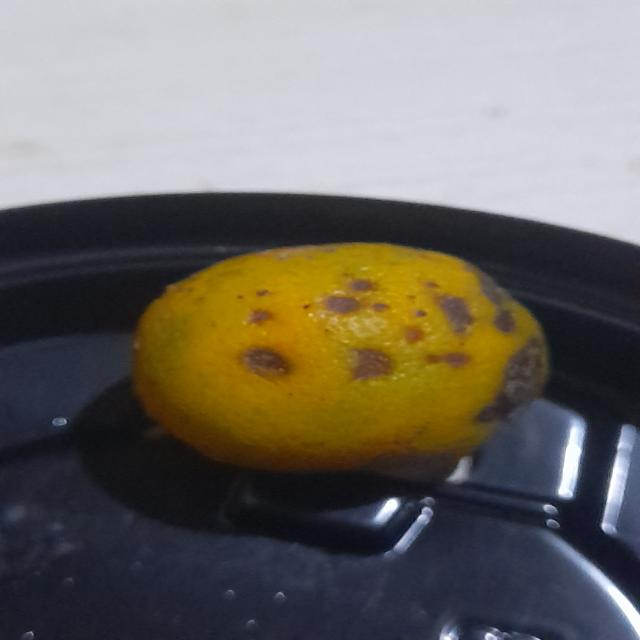black spot: (110, 230, 569, 480)
